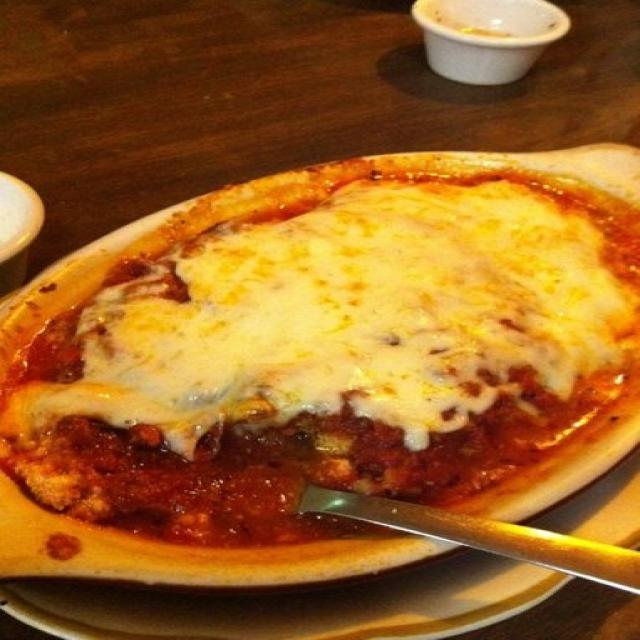Lasagna: (27, 167, 617, 538)
